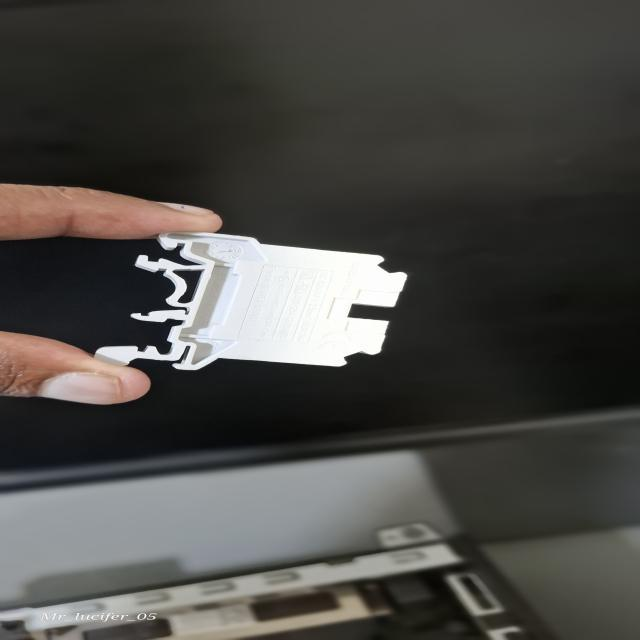Inverted: (96, 228, 412, 376)
